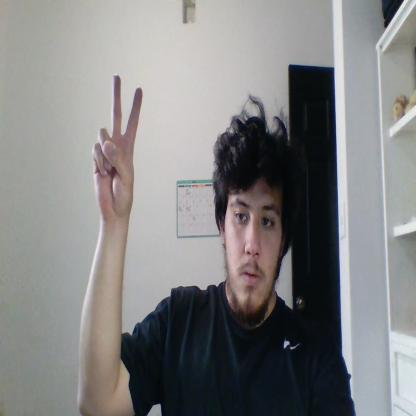V: (92, 73, 142, 222)
